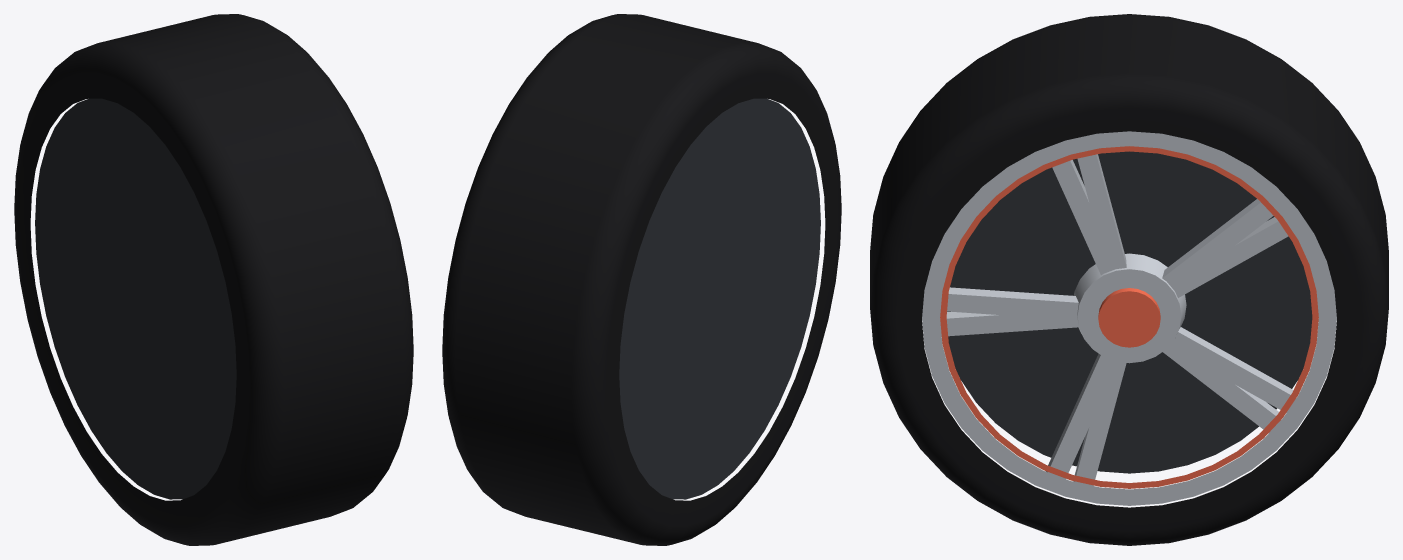
The model's file is wheel.glb.
The picture shows the model from 3 angles, left to right: view 1: azimuth 30°, elevation 25°; view 2: azimuth 150°, elevation 25°; view 3: azimuth 270°, elevation 25°; orthographic projection.
Parts seen in each view (by area): view 1: wheel; view 2: wheel; view 3: wheel.
Boxes of the visible parts, x1,y1,x2,y2 form: wheel: [14, 14, 413, 545]; wheel: [442, 14, 841, 545]; wheel: [870, 14, 1388, 545].
Bounding box in the file's own units: 0.72 × 2 × 2.
Materials: 1 (1 with a texture image).
